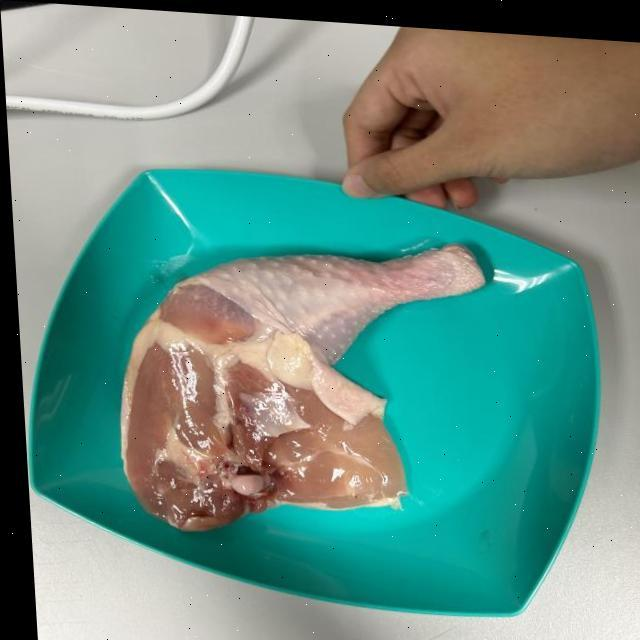quater: (94, 230, 512, 528)
